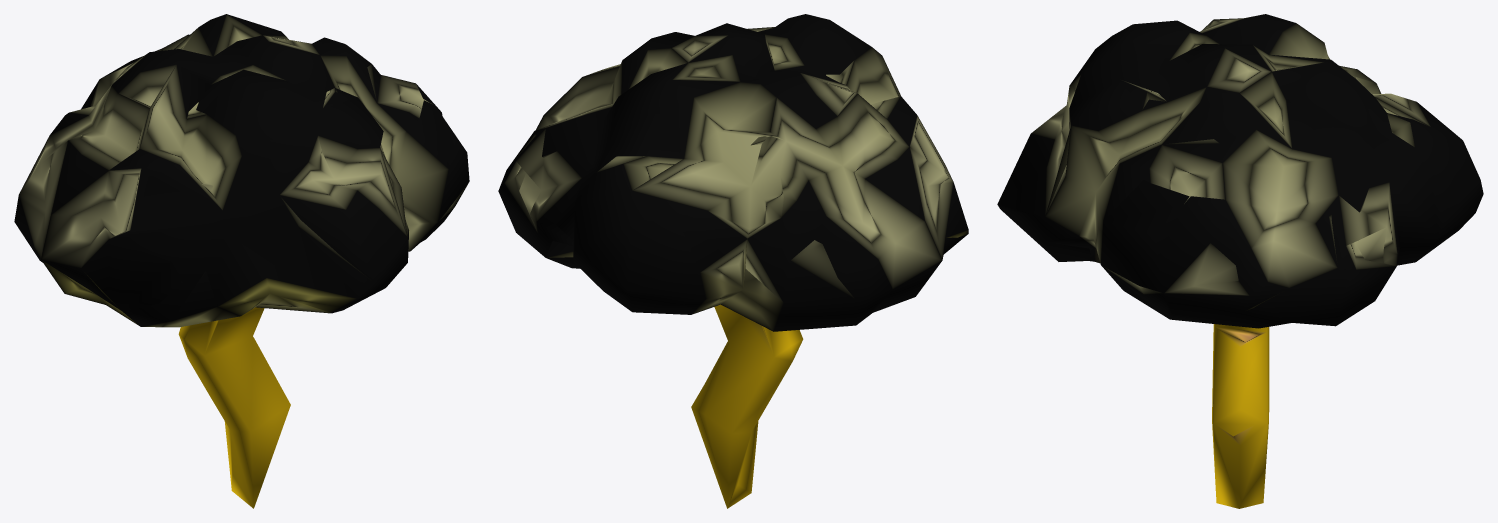
The model's file is gen3d-storm-cloud-lod1.glb.
The picture shows the model from 3 angles, left to right: view 1: azimuth 30°, elevation 25°; view 2: azimuth 150°, elevation 25°; view 3: azimuth 270°, elevation 25°; orthographic projection.
Parts seen in each view (by area): view 1: part_0; view 2: part_0; view 3: part_0.
Boxes of the visible parts, x1,y1,x2,y2 form: part_0: [14, 14, 469, 508]; part_0: [498, 14, 968, 508]; part_0: [997, 14, 1483, 508].
Size of the model in its own units: 0.9263 by 0.9892 by 0.9388.
